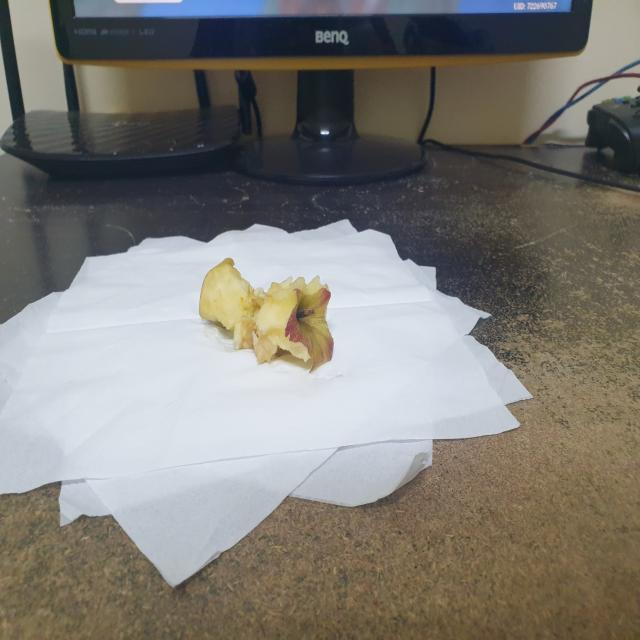apple: (195, 251, 348, 380)
